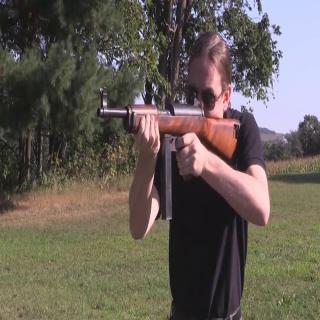gun: (94, 76, 242, 238)
